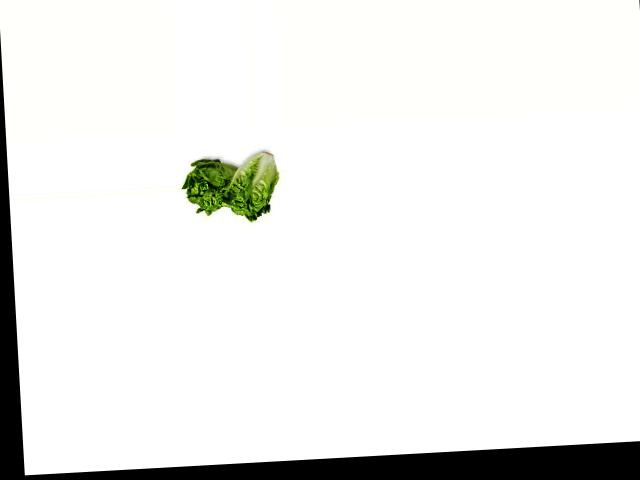lettuce: (180, 149, 244, 217)
